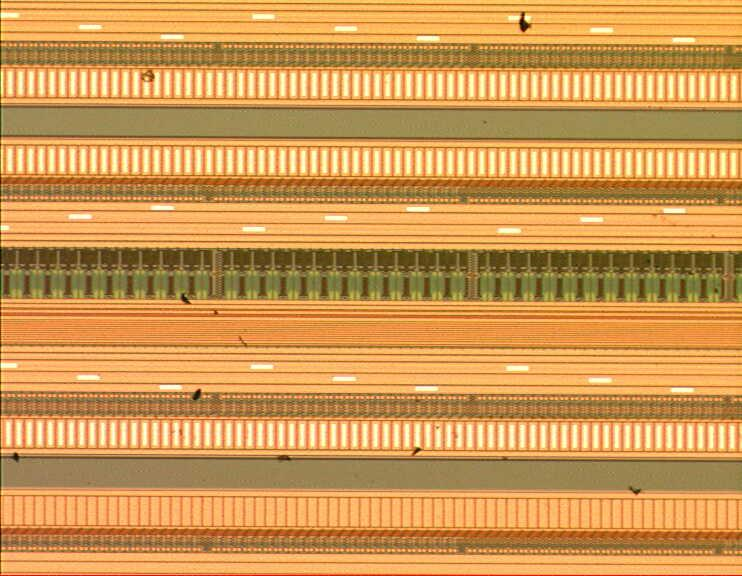PO CONTAMINATION: (8, 9, 736, 502)
